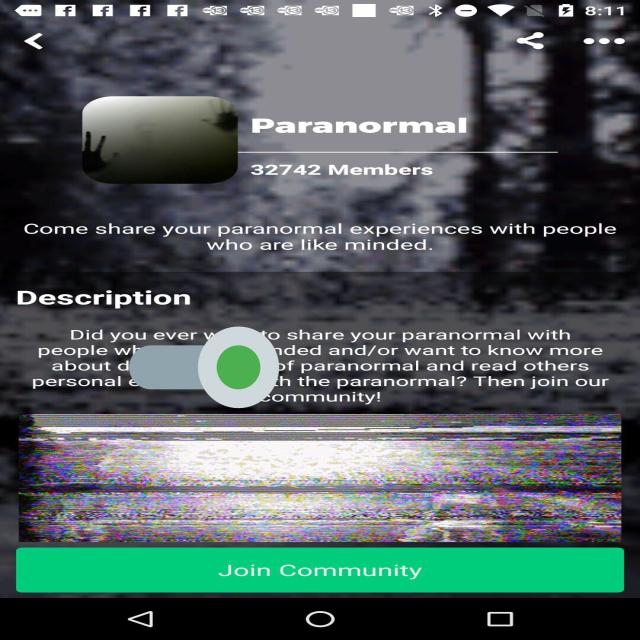social proof: (129, 292, 279, 443)
